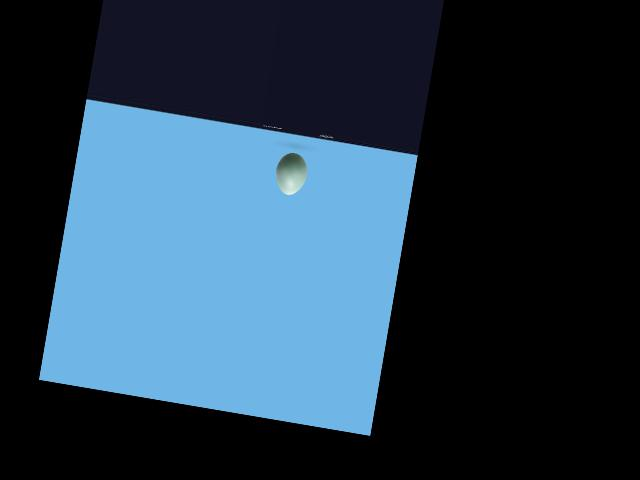egg: (271, 150, 309, 197)
